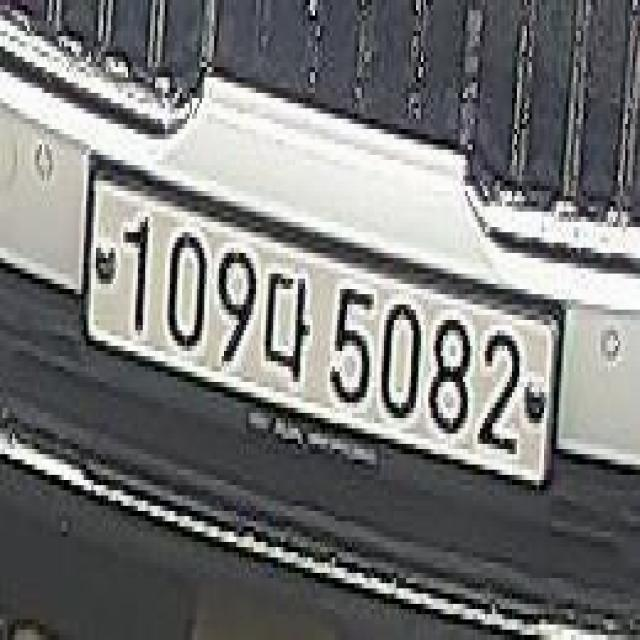illegal_plate: (76, 171, 560, 503)
